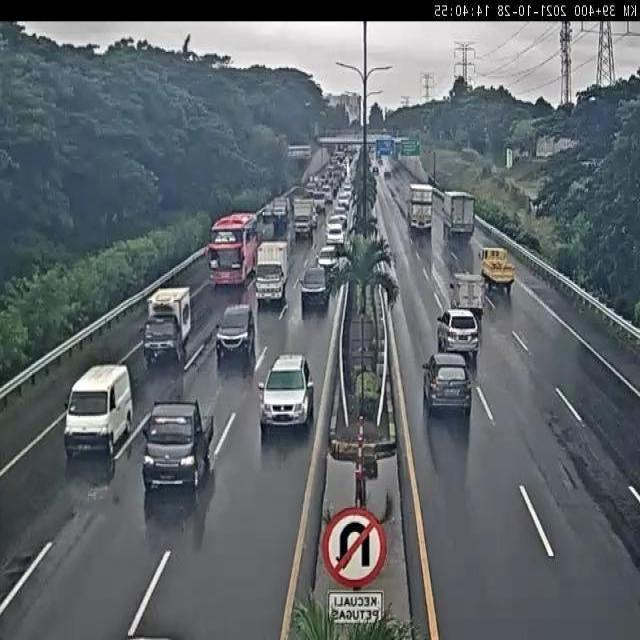Car: (142, 400, 215, 490), (259, 352, 315, 432), (424, 354, 473, 418), (215, 304, 257, 373), (436, 307, 480, 361), (299, 266, 331, 312), (317, 244, 341, 275), (326, 217, 346, 246), (336, 190, 352, 219), (321, 186, 332, 205)
Truck: (207, 212, 262, 288), (143, 287, 193, 368), (254, 239, 292, 308), (449, 272, 486, 325), (479, 246, 515, 293), (443, 190, 475, 240), (407, 182, 434, 234), (263, 197, 291, 238), (291, 196, 316, 239)
Van: (64, 363, 134, 457)
